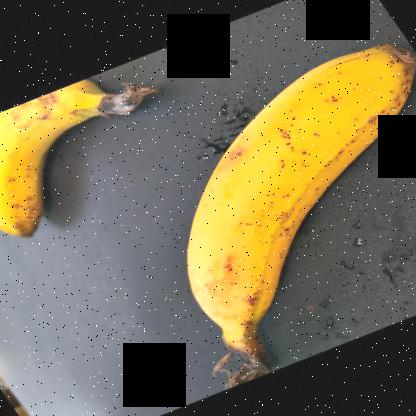ripe: (182, 19, 415, 350), (1, 70, 131, 254)
